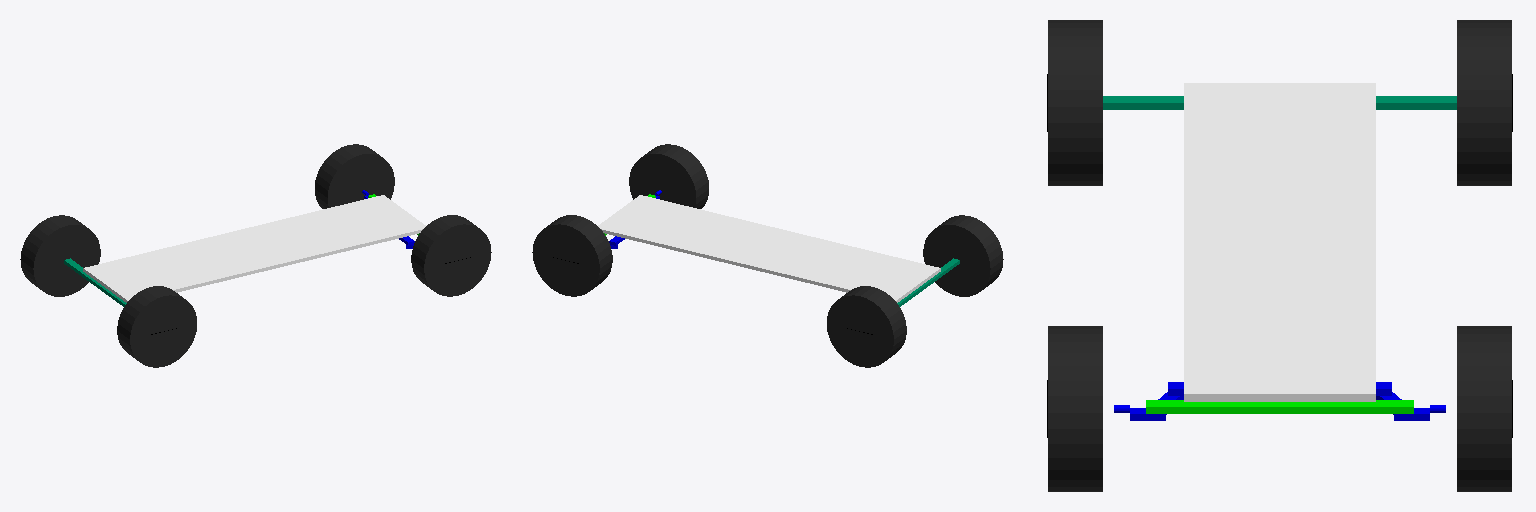
The robot description file, URDF, robot "prius_1":
<?xml version="1.0" ?>
<robot name="prius_1">
  <link name="world" />

  <joint name="world_to_prius_joint" type="continuous">
    <origin rpy="0 0 0" xyz="0 0 0.378326"/>
    <parent link="world"/>
    <child link="chassis_floor"/>
  </joint>

  <link name="chassis_floor">
    <inertial>
      <!--  The 2015 Prius has a curb weight of 3,072 lbs. (~1,400 kg) based on the PDF linked below.
      https://pressroom.toyota.com/releases/toyota+2015+prius+product+specs.download -->

      <!-- Our simplified model as of now assumes that only six links have non-zero weight: the chassis_floor, the body, and the four wheels. The chassis_floor's share of the curb weight is arbitrarily set to 1,360 kg, with the only justification of bringing the center of mass reasonable low.  -->

      <!-- TODO(shensquared): Refine the weight distribution when the model is of higher fidelity. -->
     
      <mass value="1360"/>
      <origin rpy="0 0 0" xyz="0 0 0" />
      <!-- the inertia is calculated by assuming the chassis_floor link is a cuboid, and then using the formula from https://en.wikipedia.org/wiki/List_of_moments_of_inertia
      -->
      <inertia ixx="63.858358934" ixy="0" ixz="0" iyy="940.662671467" iyz="0" izz="1004.304312533"/>
    </inertial>
    <visual name="v1">
      <origin rpy="0 0 0" xyz="0 0 0"/>
      <geometry>
        <box size="2.8808 0.75 0.030921"/>
      </geometry>
      <material name="white">
        <color rgba="1 1 1 1" />
      </material>
    </visual>
  </link>
  <link name="front_axle">
    <visual name="v1">
      <origin rpy="0 0 0" xyz="0 0 0"/>
      <geometry>
        <box size="0.061842 1.05132 0.030921"/>
      </geometry>
      <material name="green">
        <color rgba="0 1 0 1" />
      </material>
    </visual>
  </link>
  <link name="left_tie_rod_arm">
    <visual name="__v2">
      <origin rpy="0 0 0.46364" xyz="-0.1086 -0.0543 0"/>
      <geometry>
        <box size="0.204637 0.061842 0.030921"/>
      </geometry>
      <material name="blue">
        <color rgba="0 0 1 1" />
      </material>
    </visual>
    <visual name="__v1">
      <origin rpy="0  0  0" xyz="0       0.02228  0"/>
      <geometry>
        <box size="0.061842 0.140955 0.030921"/>
      </geometry>
      <material name="blue">
        <color rgba="0 0 1 1" />
      </material>
    </visual>
  </link>
  <link name="left_hub">
    <visual name="__visual">
      <origin rpy="0 0 0" xyz="0 0 0"/>
      <geometry>
        <cylinder length="0.0618421" radius="0.0154605"/>
      </geometry>
      <material name="blue">
        <color rgba="0 0 1 1" />
      </material>
    </visual>
  </link>
  <link name="tie_rod">
  <visual name="v1">
      <origin rpy="0 0 0" xyz="0 -0.4085 0"/>
      <geometry>
        <box size="0.061842 0.878847 0.030921"/>
      </geometry>
      <material name="blue">
        <color rgba="0 0 1 1" />
      </material>
    </visual>
  </link>
  <link name="left_wheel">
    <inertial>
      <mass value="14.28"/>
      <origin rpy="0 0 0" xyz="0 0 0"/>
      <inertia ixx="0.499912" ixy="0" ixz="0" iyy="0.778439" iyz="0" izz="0.499912"/>
    </inertial>
    <collision name="c1">
      <origin rpy="0 0 0" xyz="0 0 0"/>
      <geometry>
        <cylinder length="0.215" radius="0.323342"/>
      </geometry>
    </collision>
    <visual name="wheel">
      <origin rpy="0 0 0" xyz="0 0 0"/>
      <geometry>
        <cylinder length="0.215" radius="0.323342"/>
      </geometry>
      <material name="gray">
        <color rgba="0.2 0.2 0.2 1" />
      </material>
    </visual>
    <visual name="line1">
      <origin rpy="0 1.570796326794896557998982 3.141592653589793115997963" xyz="0 0 -0.1075"/>
      <geometry>
        <box size="0.0025 0.0025 0.25"/>
      </geometry>
      <material name="black">
        <color rgba="0 0 0 1" />
      </material>
    </visual>
    <visual name="line2">
      <origin rpy="3.141592653589793115997963 1.570796326794896557998982 -1.570796326794896557998982" xyz="0 0 -0.1075"/>
      <geometry>
        <box size="0.0025 0.0025 0.25"/>
      </geometry>
      <material name="black">
        <color rgba="0 0 0 1" />
      </material>
    </visual>
  </link>
  <link name="right_tie_rod_arm">
    <visual name="v1">
      <origin rpy="0 0 0" xyz="0 -0.02228 0"/>
      <geometry>
        <box size="0.061842 0.140955 0.030921"/>
      </geometry>
      <material name="blue">
        <color rgba="0 0 1 1" />
      </material>
    </visual>
    <visual name="v2">
      <origin rpy="0 0 -0.46364" xyz="-0.1086 0.0543 0"/>
      <geometry>
        <box size="0.204637 0.061842 0.030921"/>
      </geometry>
      <material name="blue">
        <color rgba="0 0 1 1" />
      </material>
    </visual>
  </link>
  <link name="right_hub">
    <visual name="v1">
      <origin rpy="0 0 0" xyz="0 0 0"/>
      <geometry>
        <cylinder length="0.0618421" radius="0.0154605"/>
      </geometry>
      <material name="blue">
        <color rgba="0 0 1 1" />
      </material>
    </visual>
  </link>
  <link name="right_wheel">
    <inertial>
      <mass value="14.28"/>
      <origin rpy="0 0 0" xyz="0 0 0"/>
      <inertia ixx="0.499912" ixy="0" ixz="0" iyy="0.778439" iyz="0" izz="0.499912"/>
    </inertial>
    <collision  name="c1">
      <origin rpy="0 0 0" xyz="0 0 0"/>
      <geometry>
        <cylinder length="0.215" radius="0.323342"/>
      </geometry>
    </collision>
    <visual name="v2">
      <origin rpy="0 0 0" xyz="0 0 0"/>
      <geometry>
        <cylinder length="0.215" radius="0.323342"/>
      </geometry>
       <material name="gray">
        <color rgba="0.2 0.2 0.2 1" />
      </material>
    </visual>
    <visual name="v1">
      <origin rpy="0 1.570796326794896557998982 3.141592653589793115997963" xyz="0 0 0.1075"/>
      <geometry>
        <box size="0.0025 0.0025 0.25"/>
      </geometry>
      <material name="black">
        <color rgba="0 0 0 1" />
      </material>
    </visual>
    <visual name="v3">
      <origin rpy="3.141592653589793115997963 1.570796326794896557998982 -1.570796326794896557998982" xyz="0 0 0.1075"/>
      <geometry>
        <box size="0.0025 0.0025 0.25"/>
      </geometry>
      <material name="black">
        <color rgba="0 0 0 1" />
      </material>
    </visual>
  </link>
  <link name="rear_axle">
    <inertial>
      <mass value="0"/>
      <origin rpy="0 0 0" xyz="0 0 0"/>
      <inertia ixx="0" ixy="0" ixz="0" iyy="0" iyz="0" izz="0"/>
    </inertial>
    <visual name="v1">
      <origin rpy="0 0 0" xyz="0 0 0"/>
      <geometry>
        <box size="0.061842 1.38898 0.030921"/>
      </geometry>
    </visual>
  </link>
  <link name="left_wheel_rear">
    <inertial>
      <mass value="14.28"/>
      <origin rpy="0 0 0" xyz="0 0 0"/>
      <inertia ixx="0.499912" ixy="0" ixz="0" iyy="0.778439" iyz="0" izz="0.499912"/>
    </inertial>
    <collision name="c1">
      <origin rpy="0  0  0" xyz="0  0  0"/>
      <geometry>
        <cylinder length="0.215" radius="0.323342"/>
      </geometry>
    </collision>
    <visual name="v3">
      <origin rpy="0 1.570796326794896557998982 3.141592653589793115997963" xyz="0 0 -0.1075"/>
      <geometry>
        <box size="0.0025 0.0025 0.25"/>
      </geometry>
      <material name="black">
        <color rgba="0 0 0 1" />
      </material>
    </visual>
    <visual name="v2">
      <origin rpy="3.141592653589793115997963 1.570796326794896557998982 -1.570796326794896557998982" xyz="0 0 -0.1075"/>
      <geometry>
        <box size="0.0025 0.0025 0.25"/>
      </geometry>
      <material name="black">
        <color rgba="0 0 0 1" />
      </material>
    </visual>
    <visual name="v1">
      <origin rpy="0 0 0" xyz="0 0 0"/>
      <geometry>
        <cylinder length="0.215" radius="0.323342"/>
      </geometry>
      <material name="gray">
        <color rgba="0.2 0.2 0.2 1" />
      </material>
    </visual>
  </link>
  <link name="right_wheel_rear">
    <inertial>
      <mass value="14.28"/>
      <origin rpy="0 0 0" xyz="0 0 0"/>
      <inertia ixx="0.499912" ixy="0" ixz="0" iyy="0.778439" iyz="0" izz="0.499912"/>
    </inertial>
    <collision name="c1">
      <origin rpy="0 0 0" xyz="0 0 0"/>
      <geometry>
        <cylinder length="0.215" radius="0.323342"/>
      </geometry>
    </collision>
    <visual name="v3">
      <origin rpy="0 1.570796326794896557998982 3.141592653589793115997963" xyz="0 0 0.1075"/>
      <geometry>
        <box size="0.0025 0.0025 0.25"/>
      </geometry>
      <material name="black">
        <color rgba="0 0 0 1" />
      </material>
    </visual>
    <visual name="v1">
      <origin rpy="0 0 0" xyz="0 0 0"/>
      <geometry>
        <cylinder length="0.215" radius="0.323342"/>
      </geometry>
      <material name="gray">
        <color rgba="0.2 0.2 0.2 1" />
      </material>
    </visual>
    <visual name="v2">
      <origin rpy="3.141592653589793115997963 1.570796326794896557998982 -1.570796326794896557998982" xyz="0 0 0.1075"/>
      <geometry>
        <box size="0.0025 0.0025 0.25"/>
      </geometry>
      <material name="black">
        <color rgba="0 0 0 1" />
      </material>
    </visual>
  </link>
  <link name="body">
    <inertial>
      <mass value="54.2794"/>
      <origin rpy="0 0 0" xyz="0 0 0"/>
      <!-- TODO(shensquared): Work with Steve to verify the inertia values below are reasonable -->
      <inertia ixx="0.0216238" ixy="0" ixz="0" iyy="5.00375" iyz="0" izz="5.01672"/>
    </inertial>
    <visual name="v1">
      <origin rpy="0 0 0" xyz="-2.27 -0.91139 -0.21858"/>
      <geometry>
        <mesh filename="prius.dae" scale="1.0 1.0 1.0"/>
      </geometry>
    </visual>
  </link>

  <joint name="chassis_floor_axle" type="fixed">
    <parent link="chassis_floor"/>
    <child link="front_axle"/>
    <origin rpy="0 0 0" xyz="1.40948 0 -0.054984"/>
    <axis xyz="0 0 0"/>
    <limit effort="0" lower="0" upper="0" velocity="0"/>
  </joint>
  <joint name="steering" type="revolute">
    <parent link="front_axle"/>
    <child link="left_tie_rod_arm"/>
    <origin rpy="0 0 0" xyz="0 0.49473 -0.03092"/>
    <axis xyz="0 0 1"/>
    <limit effort="0.0" lower="-0.401426" upper="0.5" velocity="0.0"/>
  </joint>
  <joint name="left_hub" type="fixed">
    <parent link="left_tie_rod_arm"/>
    <child link="left_hub"/>
    <origin rpy="1.570796326794896557998982 0 0" xyz="0 0.12368 0.02406"/>
    <axis xyz="0  0  0"/>
    <limit effort="0" lower="0" upper="0" velocity="0"/>
  </joint>
  <joint name="left_pin" type="revolute">
    <parent link="left_tie_rod_arm"/>
    <child link="tie_rod"/>
    <origin rpy="0 0 0" xyz="-0.17246 -0.08623  0.03092"/>
    <axis xyz="0 0 1"/>
    <limit effort="0" lower="-1.5" upper="1.5" velocity="0"/>
  </joint>
  <joint name="left_wheel_joint" type="continuous">
    <parent link="left_hub"/>
    <child link="left_wheel"/>
    <origin rpy="0 0 0" xyz="0 0 -0.183582999999999940676787"/>
    <axis xyz="0 0 -1"/>
    <limit effort="10000" velocity="10000"/>
  </joint>
  <joint name="axle_tie_rod_arm" type="revolute">
    <parent link="front_axle"/>
    <child link="right_tie_rod_arm"/>
    <origin rpy="0 0 0" xyz="0 -0.49473 -0.03092"/>
    <axis xyz="0 0 1"/>
    <limit effort="0.0" lower="-0.401426" upper="0.5" velocity="0.0"/>
  </joint>
  <joint name="right_hub" type="fixed">
    <parent link="right_tie_rod_arm"/>
    <child link="right_hub"/>
    <origin rpy="1.570796326794896557998982 0 0" xyz="0 -0.12368 0.02406"/>
    <axis xyz="0  0  0"/>
    <limit effort="0" lower="0" upper="0" velocity="0"/>
  </joint>
  <joint name="right_wheel_joint" type="continuous">
    <parent link="right_hub"/>
    <child link="right_wheel"/>
    <origin rpy="0 0 0" xyz="0 0 0.18357"/>
    <axis xyz="0 0 -1"/>
    <limit effort="10000" velocity="10000"/>
  </joint>
  <joint name="chassis_rear_axle" type="fixed">
    <parent link="chassis_floor"/>
    <child link="rear_axle"/>
    <origin rpy="0 0 0" xyz="-1.40948 0 -0.054984"/>
    <axis xyz="0 0 0"/>
    <limit effort="0" lower="0" upper="0" velocity="0"/>
  </joint>
  <joint name="rear_left_wheel_joint" type="continuous">
    <parent link="rear_axle"/>
    <child link="left_wheel_rear"/>
    <origin rpy="1.570796326794896557998982  0 0" xyz="0 0.80199  0"/>
    <axis xyz="0  0 -1"/>
    <limit effort="10000" velocity="10000"/>
  </joint>
  <joint name="rear_right_wheel_joint" type="continuous">
    <parent link="rear_axle"/>
    <child link="right_wheel_rear"/>
    <origin rpy="1.570796326794896557998982 0 0" xyz="0 -0.80199  0"/>
    <axis xyz="0  0 -1"/>
    <limit effort="10000" velocity="10000"/>
  </joint>
  <joint name="body" type="fixed">
    <parent link="chassis_floor"/>
    <child link="body"/>
    <origin rpy="0  0  0" xyz="0 0 0.006857999999999975226927518"/>
    <axis xyz="0  0  0"/>
    <limit effort="0" lower="0" upper="0" velocity="0"/>
  </joint>

  <loop_joint name="right_pin" type="continuous">
    <axis xyz="0 0 1"/>
    <link1 link="right_tie_rod_arm" rpy="0 0 0" xyz="-0.17246 0.08622399999999996733635044  0.03092"/>
    <link2 link="tie_rod" rpy="0 0 0" xyz="0 -0.817006 0"/>
  </loop_joint>

  <transmission name="steering_drive" type="SimpleTransmission">
    <joint name="steering"/>
    <actuator name="steering"/>
  </transmission>
  <transmission name="front_left_drive" type="SimpleTransmission">
    <joint name="left_wheel_joint"/>
    <actuator name="left_wheel_joint"/>
  </transmission>
  <transmission name="front_right_drive" type="SimpleTransmission">
    <joint name="right_wheel_joint"/>
    <actuator name="right_wheel_joint"/>
  </transmission>
</robot>

--- Facts derived from the render (not from the file) ---
Views: 3 orthographic renders of the robot side by side, from view 1: azimuth 30°, elevation 25°; view 2: azimuth 150°, elevation 25°; view 3: azimuth 270°, elevation 25°.
Model prius_1 with 14 links and 13 joints (3 revolute, 5 continuous, 5 fixed), rooted at world, posed all joints at 0.
Links seen in each view (by area): view 1: chassis_floor, right_wheel_rear, right_wheel, left_wheel_rear, left_wheel; view 2: chassis_floor, left_wheel_rear, left_wheel, right_wheel_rear, right_wheel; view 3: chassis_floor, left_wheel, right_wheel, left_wheel_rear, right_wheel_rear, front_axle, rear_axle.
Link boxes in pixels (x1,y1,x2,y2): chassis_floor: (83,195,425,302); right_wheel_rear: (117,286,196,367); right_wheel: (411,215,491,296); left_wheel_rear: (20,215,100,296); left_wheel: (315,144,394,208); chassis_floor: (598,195,940,302); left_wheel_rear: (827,286,906,367); left_wheel: (532,215,612,296); right_wheel_rear: (923,215,1003,296); right_wheel: (629,144,708,208); chassis_floor: (1184,83,1375,401); left_wheel: (1457,326,1512,491); right_wheel: (1047,326,1102,491); left_wheel_rear: (1457,20,1512,185); right_wheel_rear: (1047,20,1102,185); front_axle: (1146,400,1413,413); rear_axle: (1103,96,1456,109).
Bounding box of the posed robot: 3.47 × 1.82 × 0.6535 m (x, y, z).
Meshes: 1 distinct files referenced, 0 mesh visuals loaded (none loaded); not drawn: 1 (reference not matched to a file when rendering).
